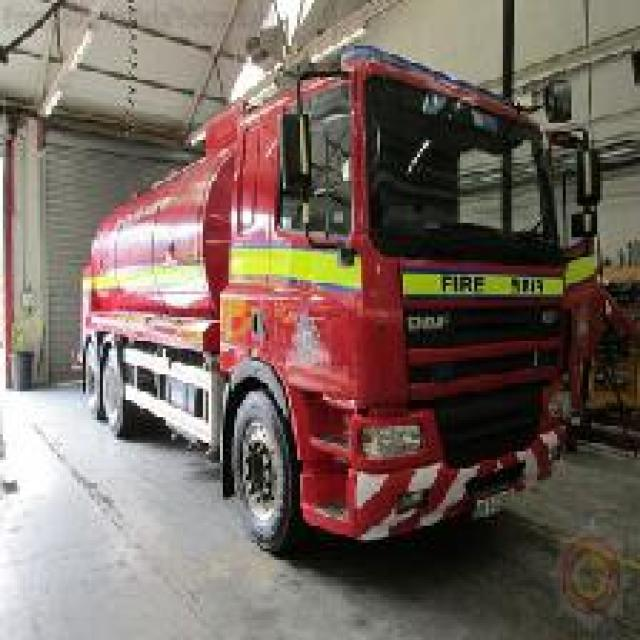emergency: (71, 39, 614, 556)
